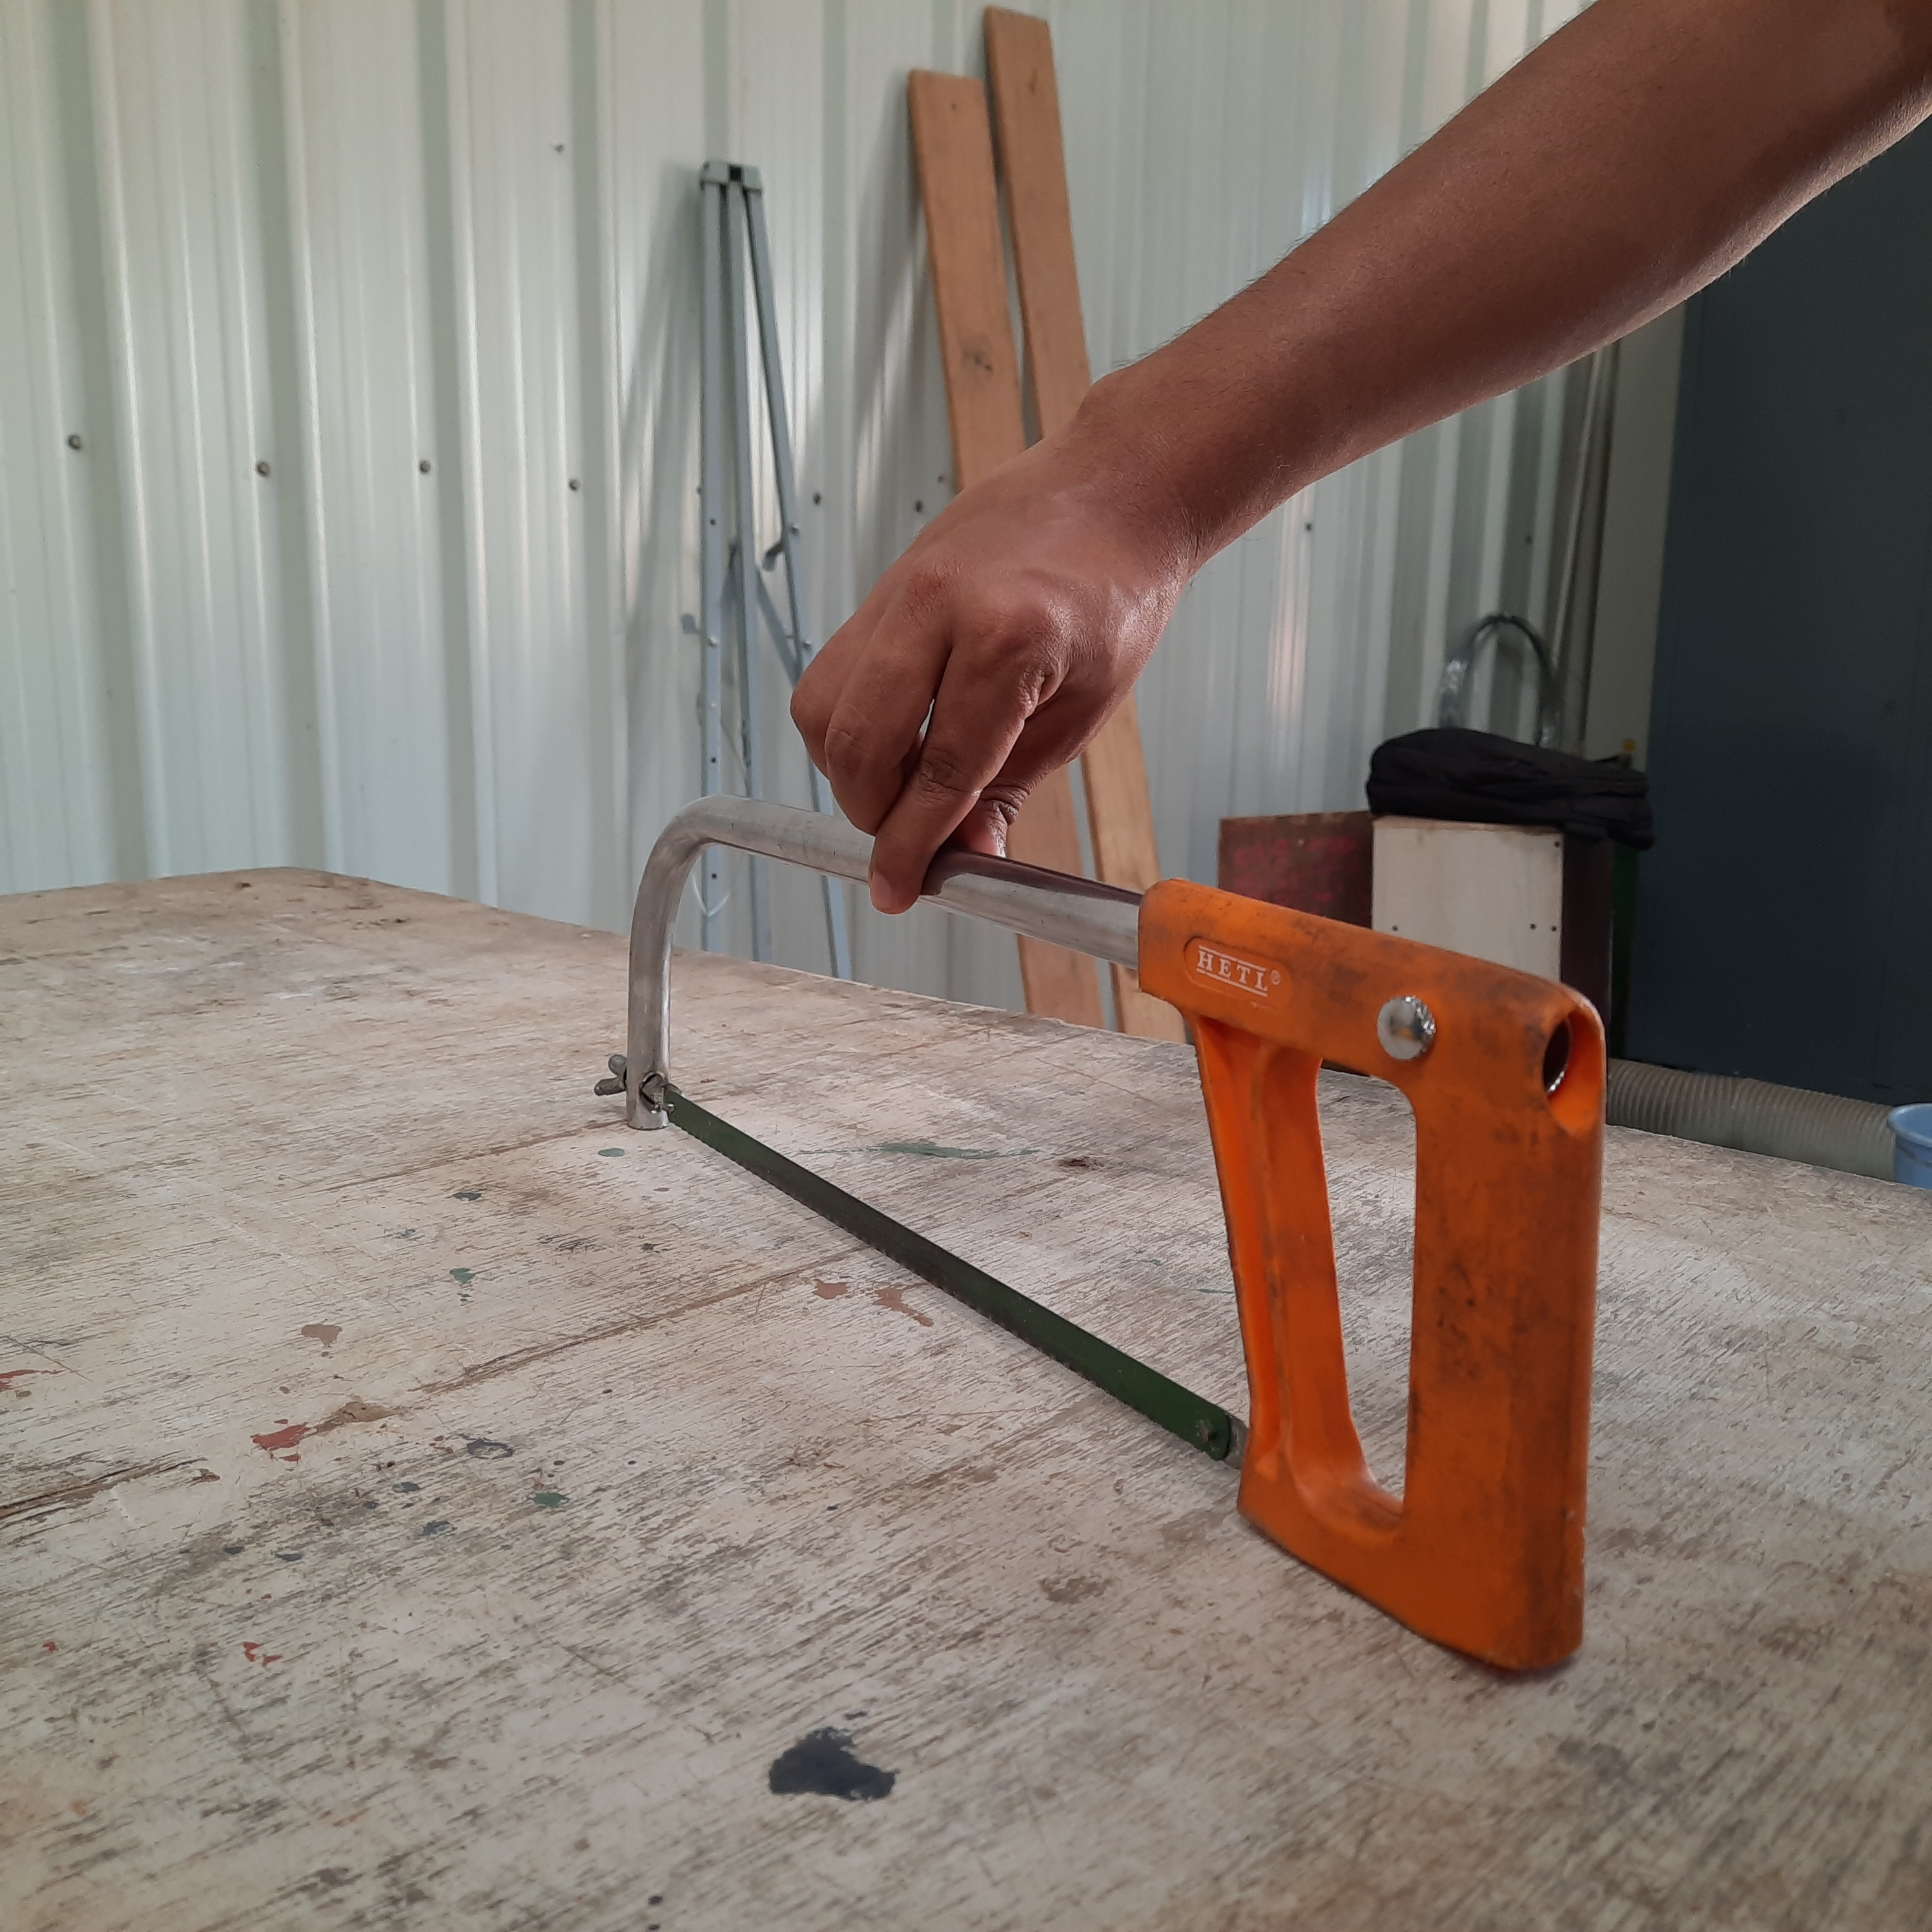Hexaframe: (564, 766, 1681, 1631)
